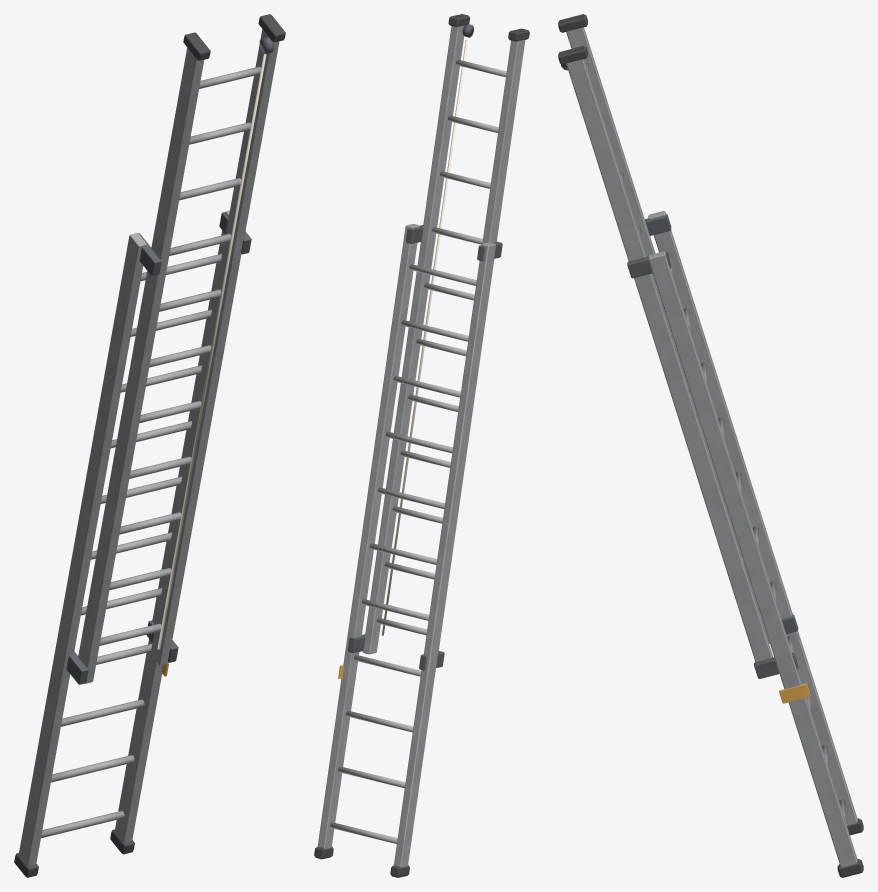
The model's file is Maquininha_Ladder.fbx.
3 views of the same model, side by side, from view 1: azimuth 30°, elevation 25°; view 2: azimuth 150°, elevation 25°; view 3: azimuth 270°, elevation 25° (orthographic). The views are drawn at different scales.
Parts seen in each view (by area): view 1: Maquininha_Ladder; view 2: Maquininha_Ladder; view 3: Maquininha_Ladder.
Part boxes in pixels (bbox=[...]): Maquininha_Ladder: bbox=[14, 14, 285, 877]; Maquininha_Ladder: bbox=[314, 14, 529, 877]; Maquininha_Ladder: bbox=[558, 14, 863, 877].
Bounding box in the file's own units: 0.52 × 4.35 × 1.46.
1 material, 1 textured.
